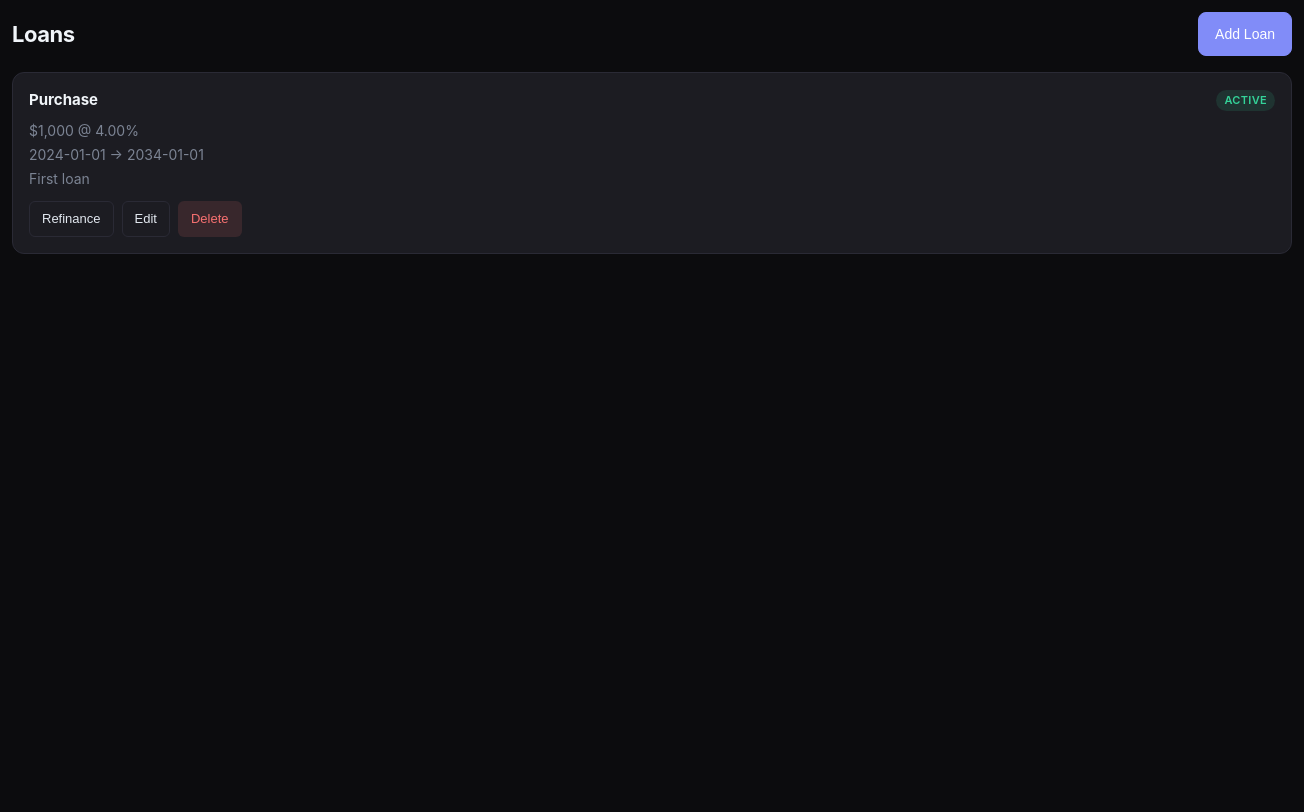
Test: LoansPage › can submit an edited loan
expect the text "Purchase" is shown: met, box [29,89,98,112]
Click the button "Edit" at (146, 219), box [122,201,170,237]
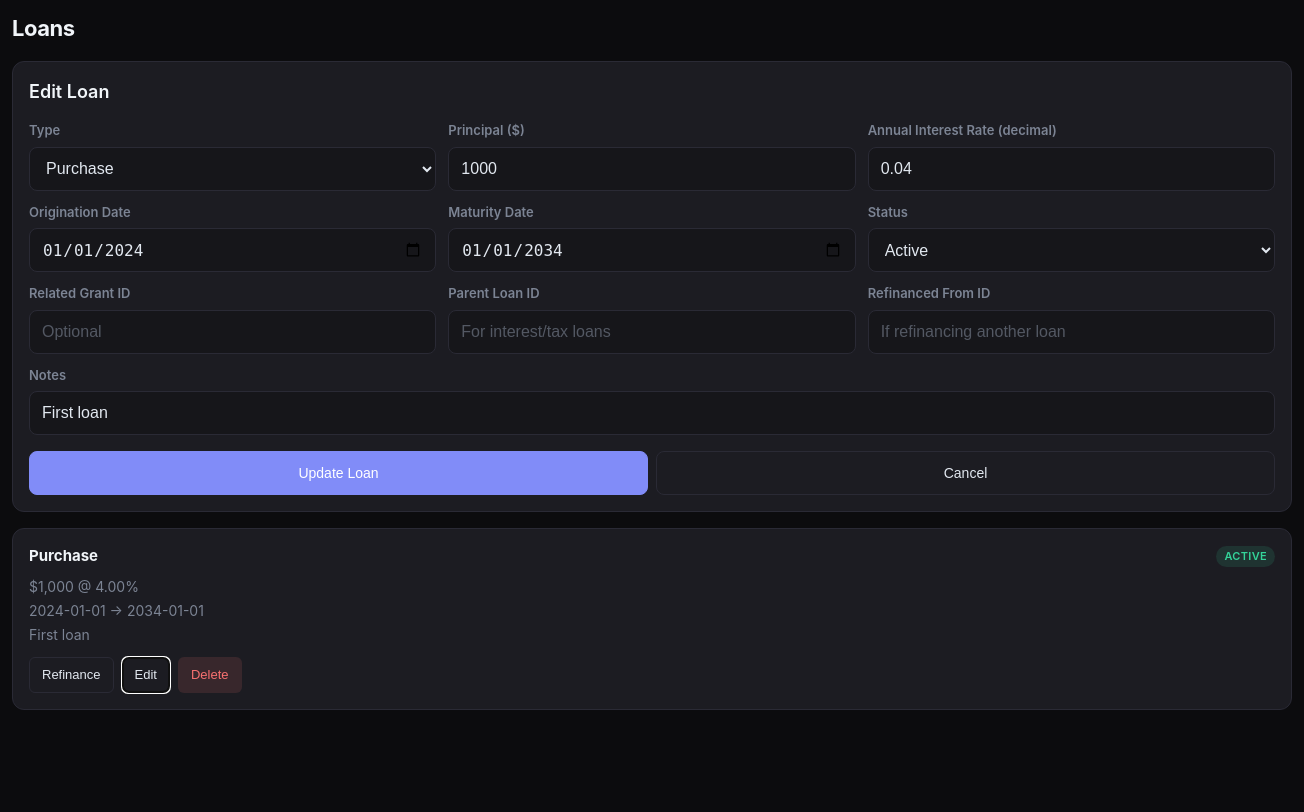
expect the heading "Edit Loan" is shown: met, box [29,81,109,102]
// Change principal
Replace the text in the number field labelled "Principal ($)" with "2000" at (652, 168), box [448,146,856,190]
// Fill in optional fields to cover more code
Type "g1" into the field labelled "Related Grant ID" at (233, 332), box [29,310,436,354]
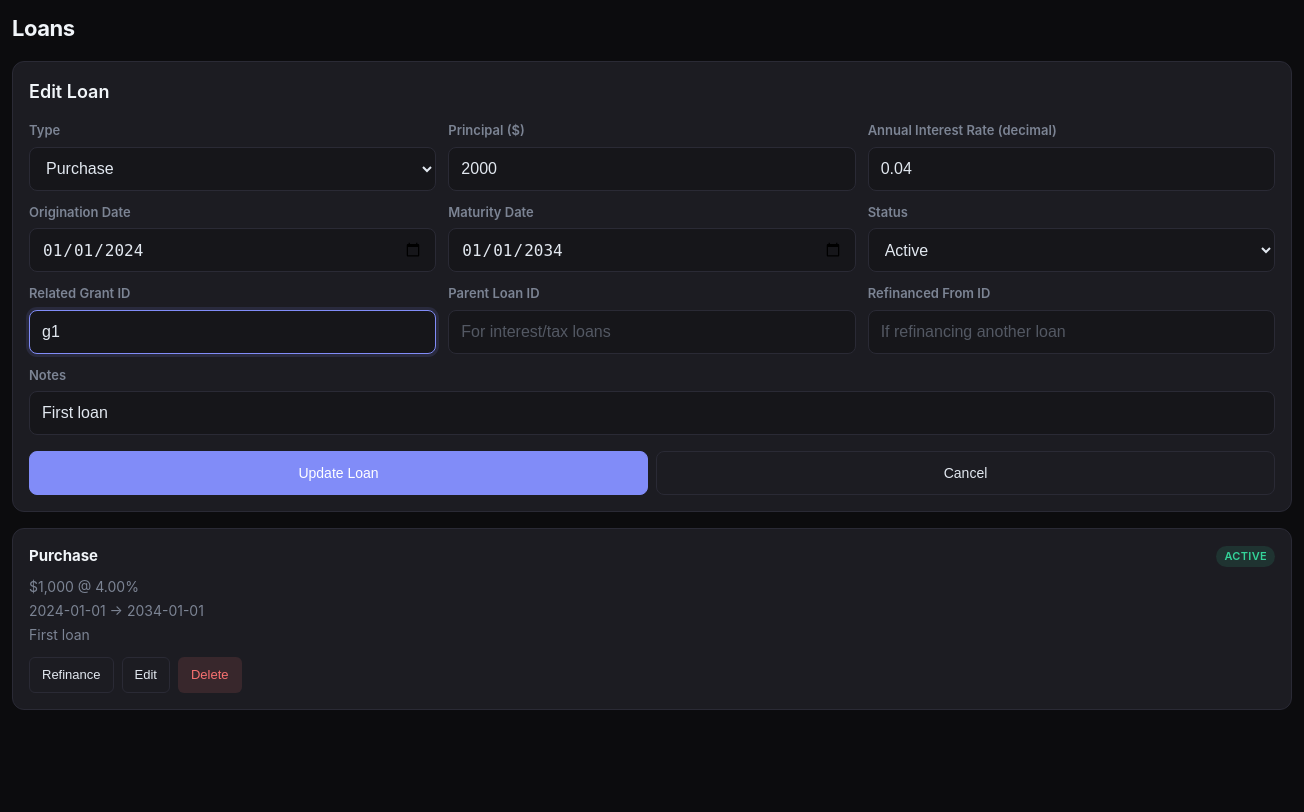
Type "parent-loan" into the field labelled "Parent Loan ID" at (652, 332), box [448,310,856,354]
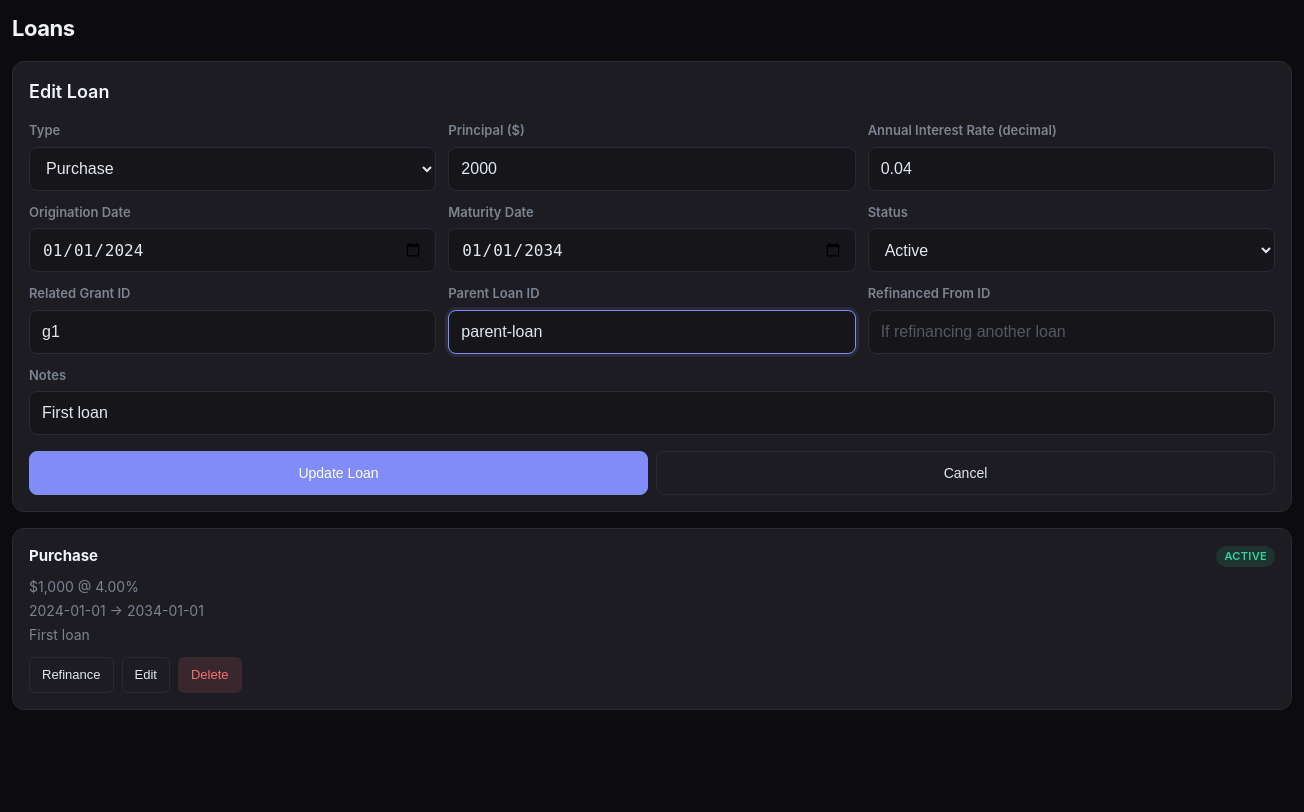
Type "old-loan" into the field labelled "Refinanced From ID" at (1071, 332), box [868,310,1275,354]
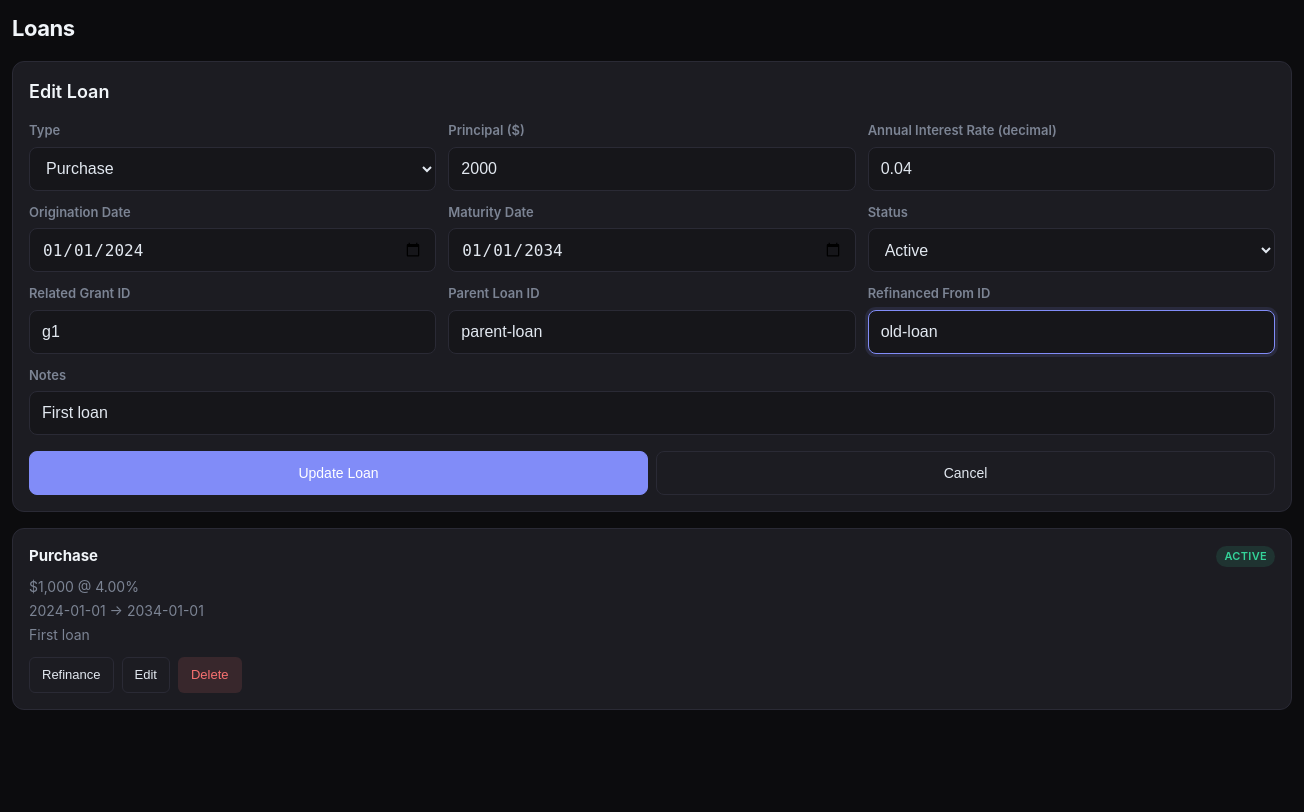
// Clear existing notes then type new ones
Replace the text in the field labelled "Notes" with "Updated loan" at (652, 413), box [29,391,1275,435]
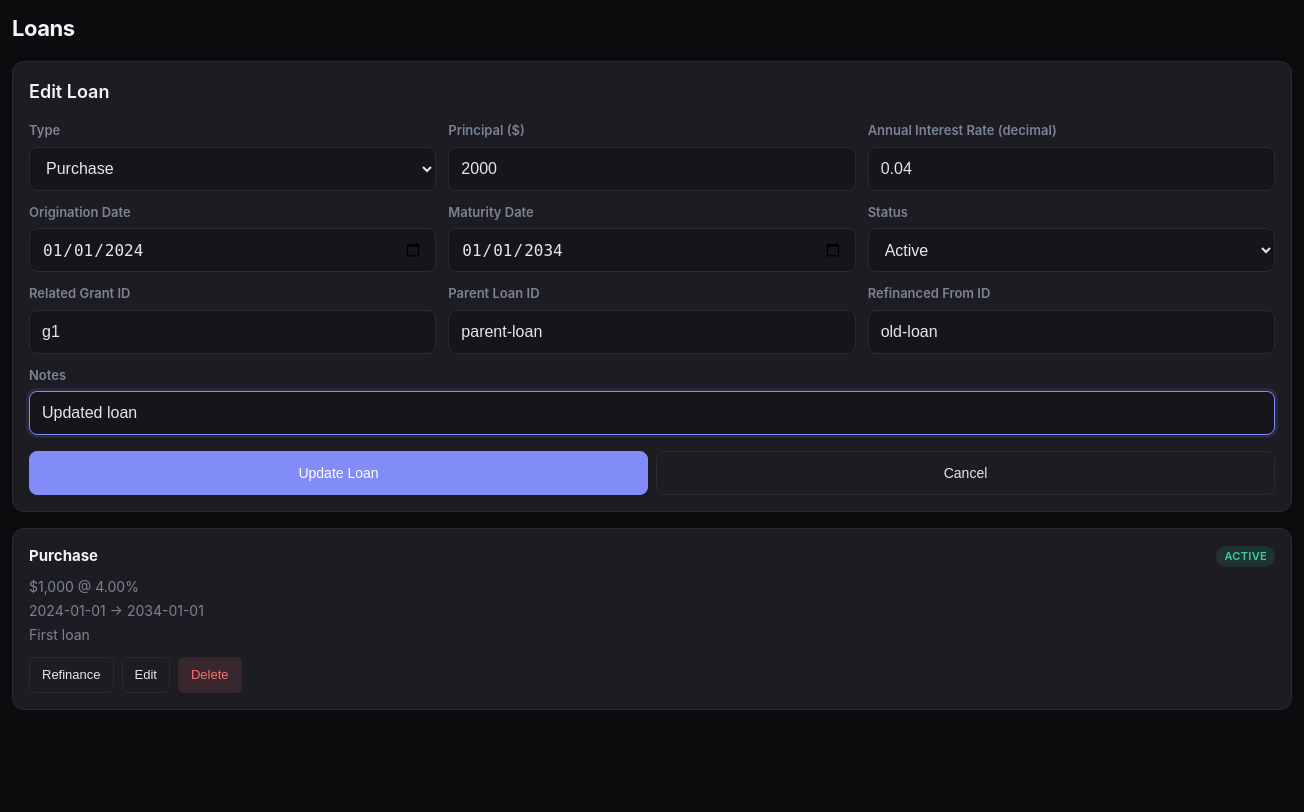
Click the button "Update Loan" at (338, 473), box [29,451,648,495]
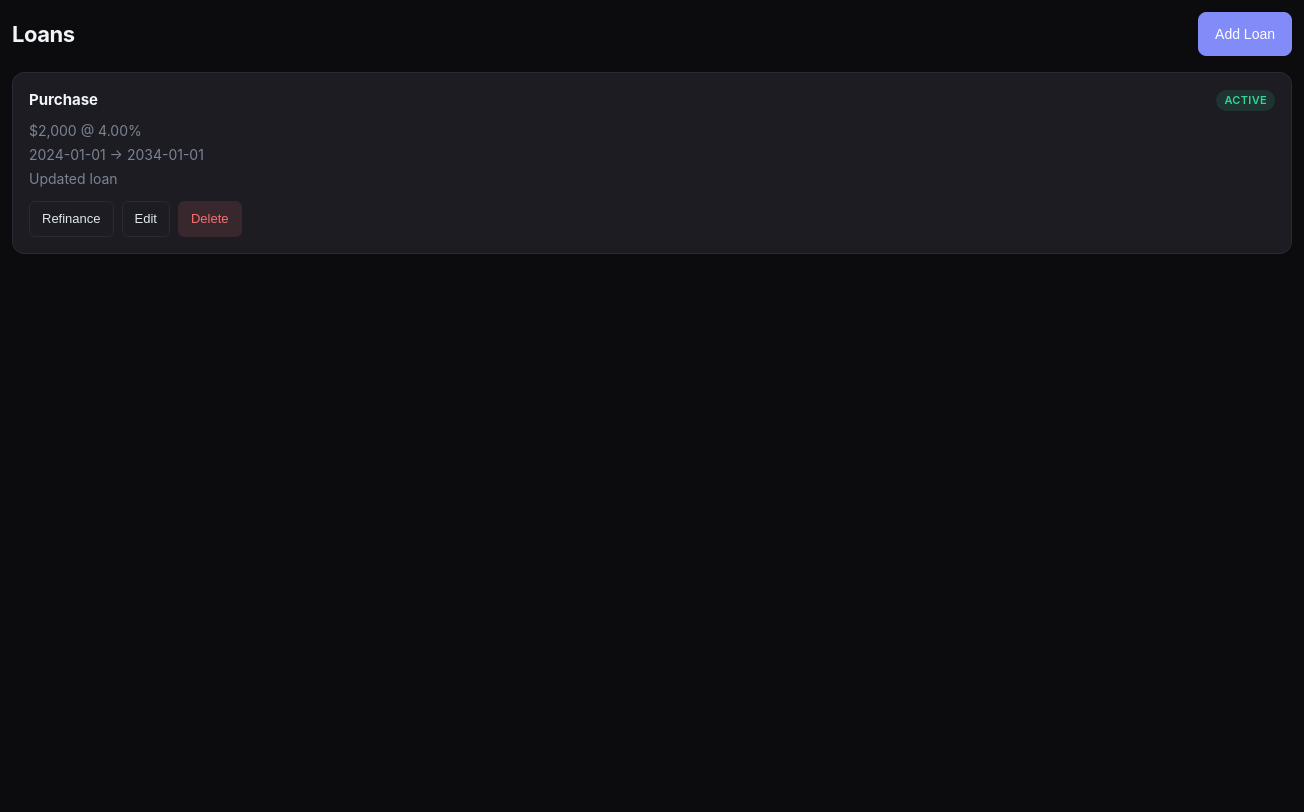
expect the heading "Edit Loan" is gone: met
expect the text "$2,000 @ 4.00%" is shown: met, box [29,122,142,138]
expect the text "Updated loan" is shown: met, box [29,170,118,187]
